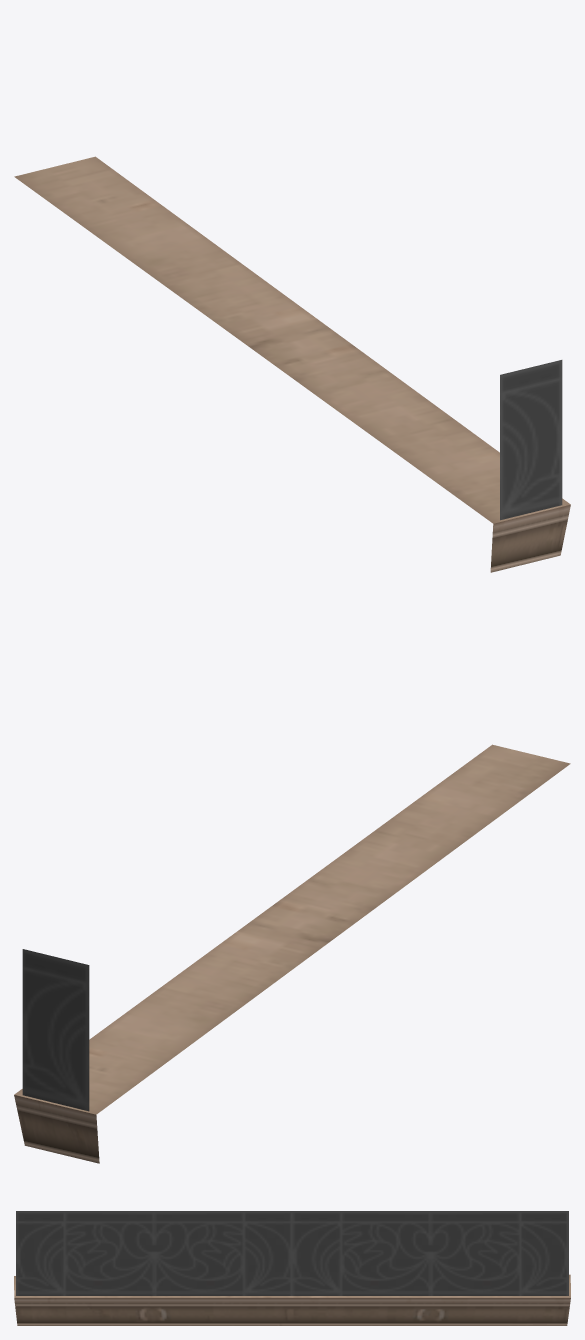
3 renders of one model, top to bottom at view 1: azimuth 30°, elevation 25°; view 2: azimuth 150°, elevation 25°; view 3: azimuth 270°, elevation 25°, orthographic. The views are drawn at different scales.
Parts seen in each view (by area): view 1: um_t1_ar307_model_t1_ar307_modelShape; view 2: um_t1_ar307_model_t1_ar307_modelShape; view 3: um_t1_ar307_model_t1_ar307_modelShape.
Boxes of the visible parts, x1,y1,x2,y2 form: um_t1_ar307_model_t1_ar307_modelShape: (14, 156, 570, 572); um_t1_ar307_model_t1_ar307_modelShape: (14, 744, 570, 1163); um_t1_ar307_model_t1_ar307_modelShape: (14, 1211, 570, 1325).
Bounding box in the file's own units: 0.4853 × 1.11 × 4.89.
Materials: 2 (2 with a texture image).
